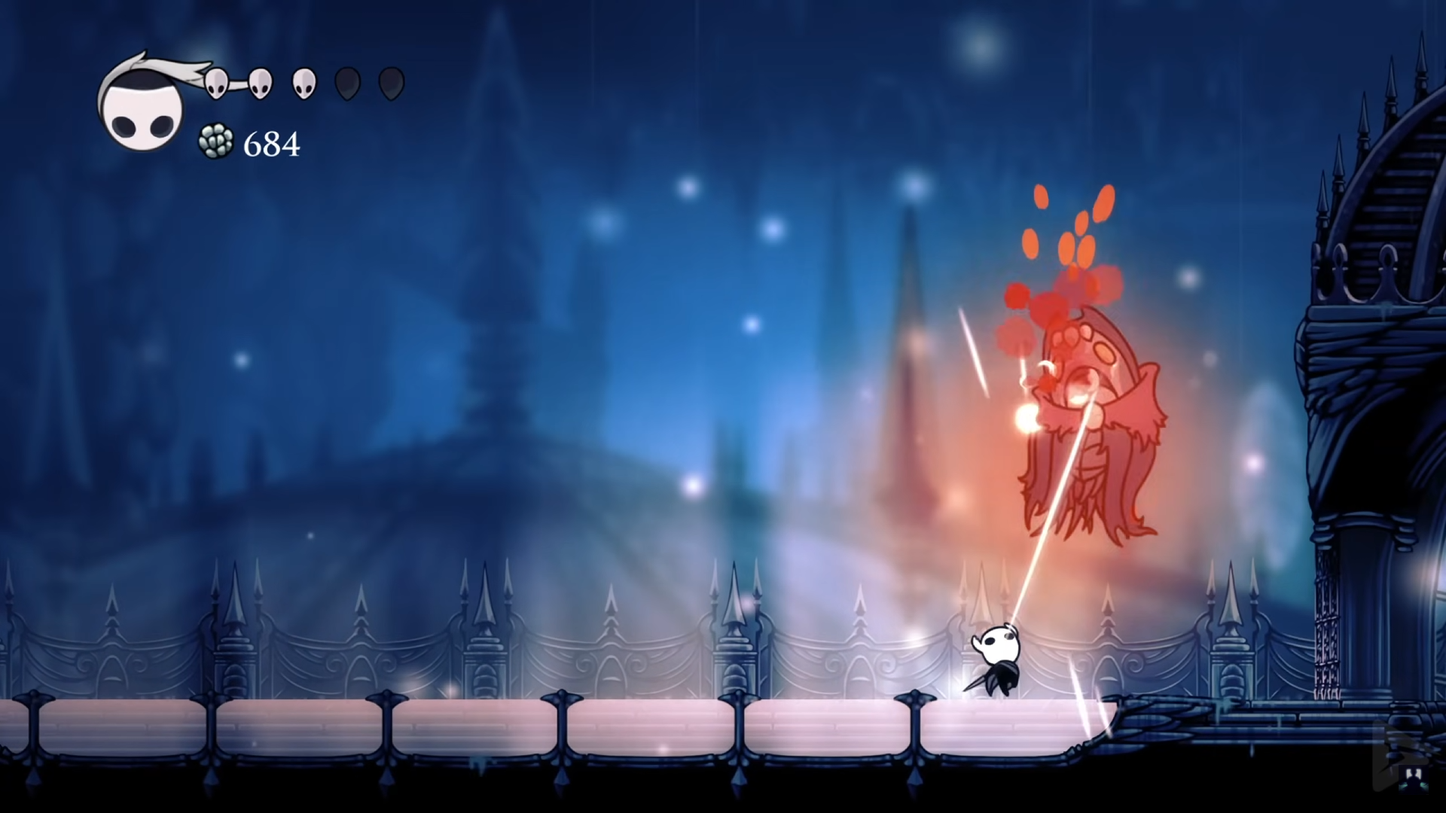HK: (966, 616, 1027, 702)
